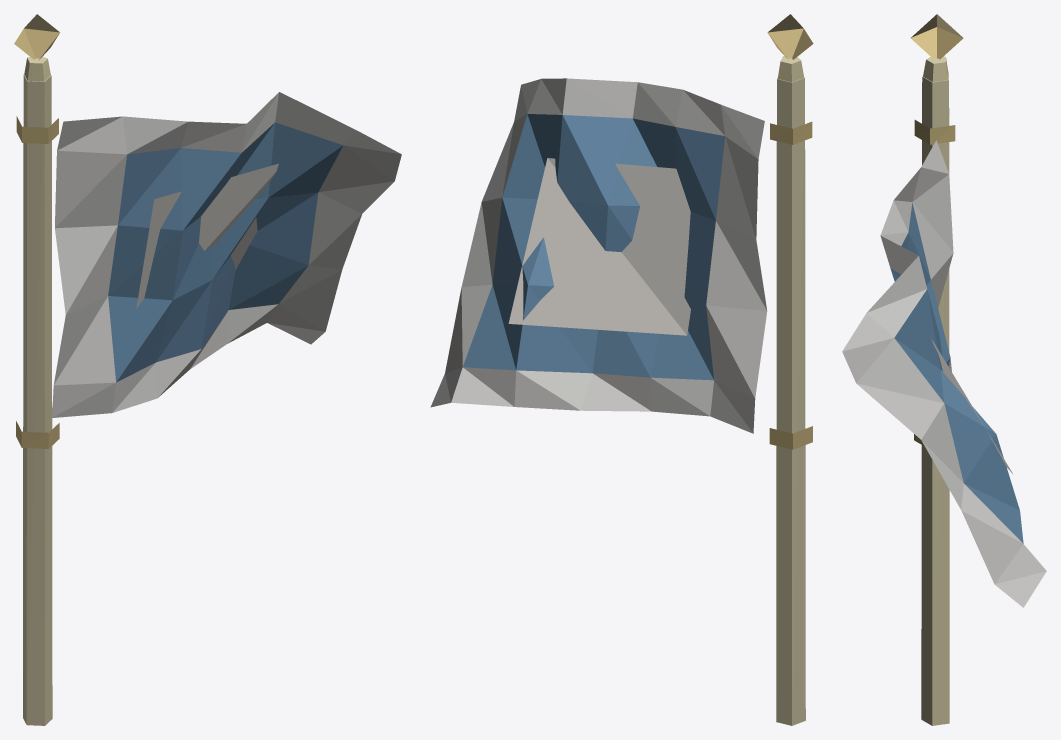
The model's file is flag.square.qingqi__pole.stick.mugun__masthead.glb.
The picture shows the model from 3 angles, left to right: view 1: azimuth 30°, elevation 25°; view 2: azimuth 150°, elevation 25°; view 3: azimuth 270°, elevation 25°; orthographic projection.
Visible parts, largest first — view 1: flag.square.qingqi; view 2: flag.square.qingqi; view 3: flag.square.qingqi.
Boxes of the visible parts, x1,y1,x2,y2 form: flag.square.qingqi: (14, 14, 401, 725); flag.square.qingqi: (430, 14, 813, 725); flag.square.qingqi: (842, 14, 1046, 725).
Bounding box in the file's own units: 1.05 × 2.08 × 0.5482.
